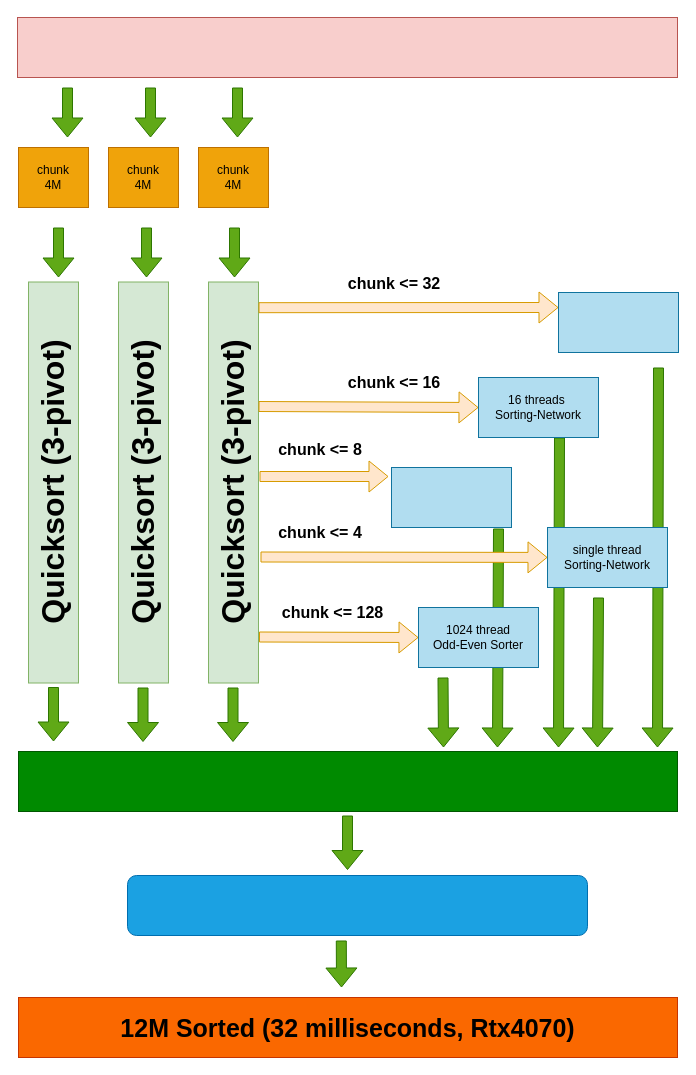
This 696x1075 diagram has some shape labels left out. Here are the shapes that lost their labels. From the top down, the box of each, then its label:
(16, 16, 678, 78): Input Array: 12M elements unsorted
(558, 292, 678, 352): 32 threads Sorting-Network
(390, 466, 512, 528): 8 threads Sorting-Network
(18, 750, 678, 812): 3x 4M partially sorted
(126, 874, 588, 936): Merge K-Sorted Arrays
